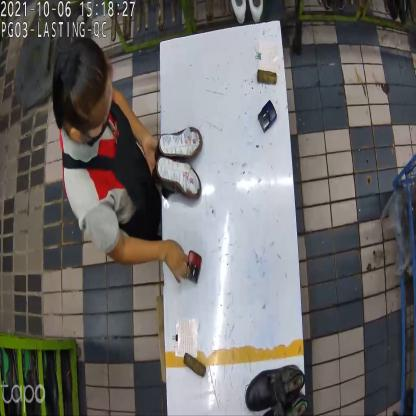shoes: (154, 121, 207, 210), (244, 362, 310, 416)
stamp: (258, 99, 276, 135), (183, 251, 202, 284)
